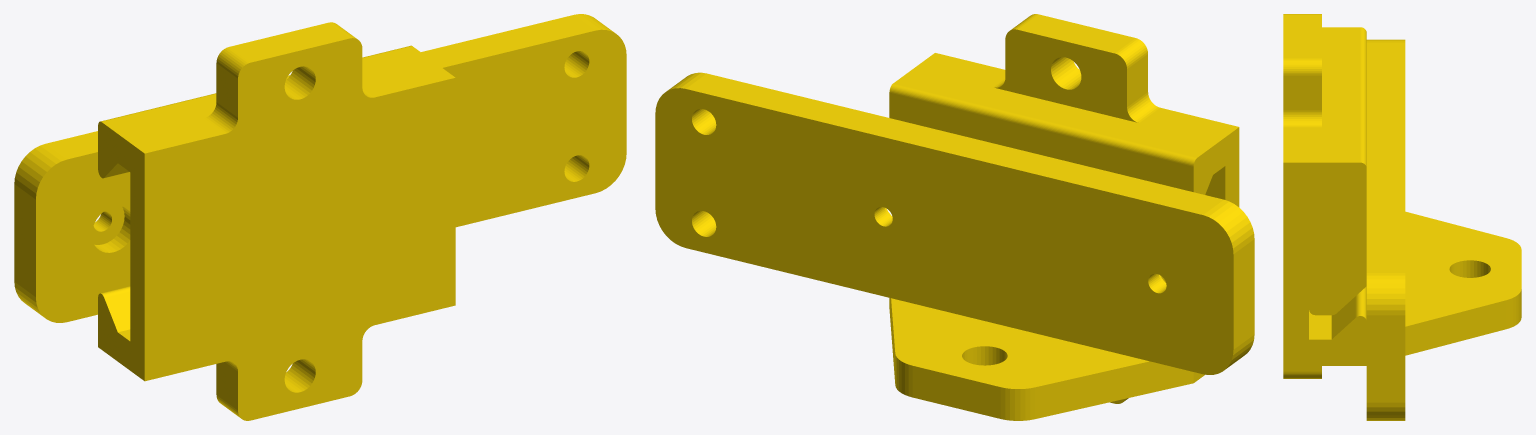
Rendered from Camera_Supports.dae.
The picture shows the model from 3 angles, left to right: view 1: azimuth 30°, elevation 25°; view 2: azimuth 150°, elevation 25°; view 3: azimuth 270°, elevation 25°; orthographic projection. The views are drawn at different scales.
Visible parts, largest first — view 1: RealSenseRail, RealSenseSlider; view 2: RealSenseSlider, RealSenseRail; view 3: RealSenseRail, RealSenseSlider.
Boxes of the visible parts, x1,y1,x2,y2 form: RealSenseRail: (98, 22, 455, 420); RealSenseSlider: (14, 14, 626, 322); RealSenseSlider: (655, 72, 1254, 374); RealSenseRail: (889, 14, 1239, 420); RealSenseRail: (1283, 14, 1521, 378); RealSenseSlider: (1309, 39, 1405, 420).
Size of the model in its own units: 0.095 by 0.0371 by 0.055.
